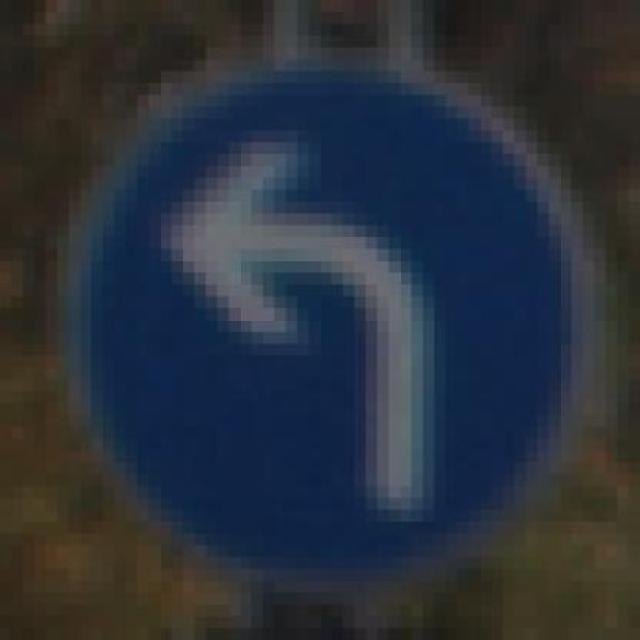Turn left ahead: (57, 66, 606, 565)
